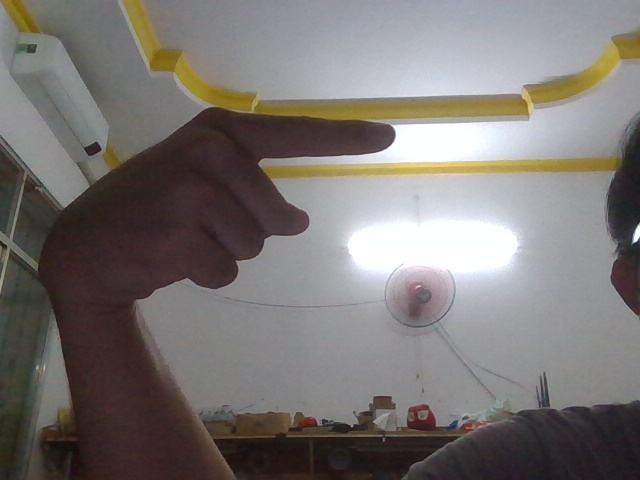turn_left: (31, 97, 403, 319)
